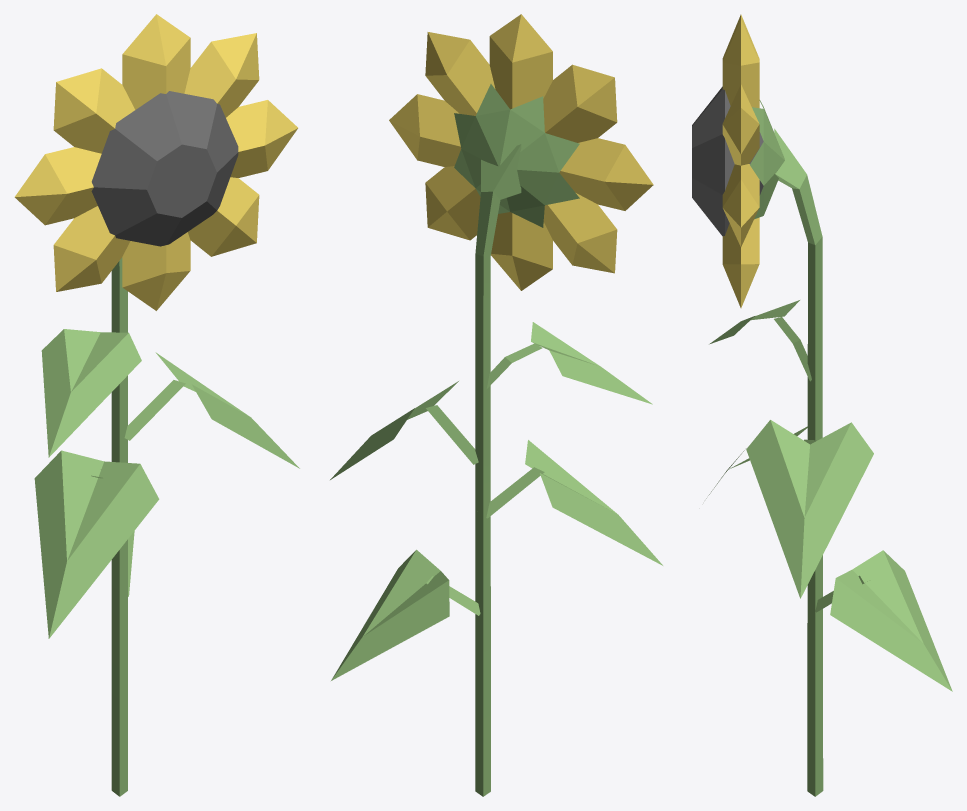
File: sunflower copy.glb
3 renders of one model, left to right at view 1: azimuth 30°, elevation 25°; view 2: azimuth 150°, elevation 25°; view 3: azimuth 270°, elevation 25°, orthographic. The views are drawn at different scales.
Visible parts, largest first — view 1: sunflower; view 2: sunflower; view 3: sunflower.
Part boxes in pixels (x1=…): sunflower: x1=14, y1=14, x2=299, y2=796; sunflower: x1=330, y1=14, x2=662, y2=796; sunflower: x1=692, y1=14, x2=952, y2=796.
Size of the model in its own units: 70.35 by 171 by 52.34.
